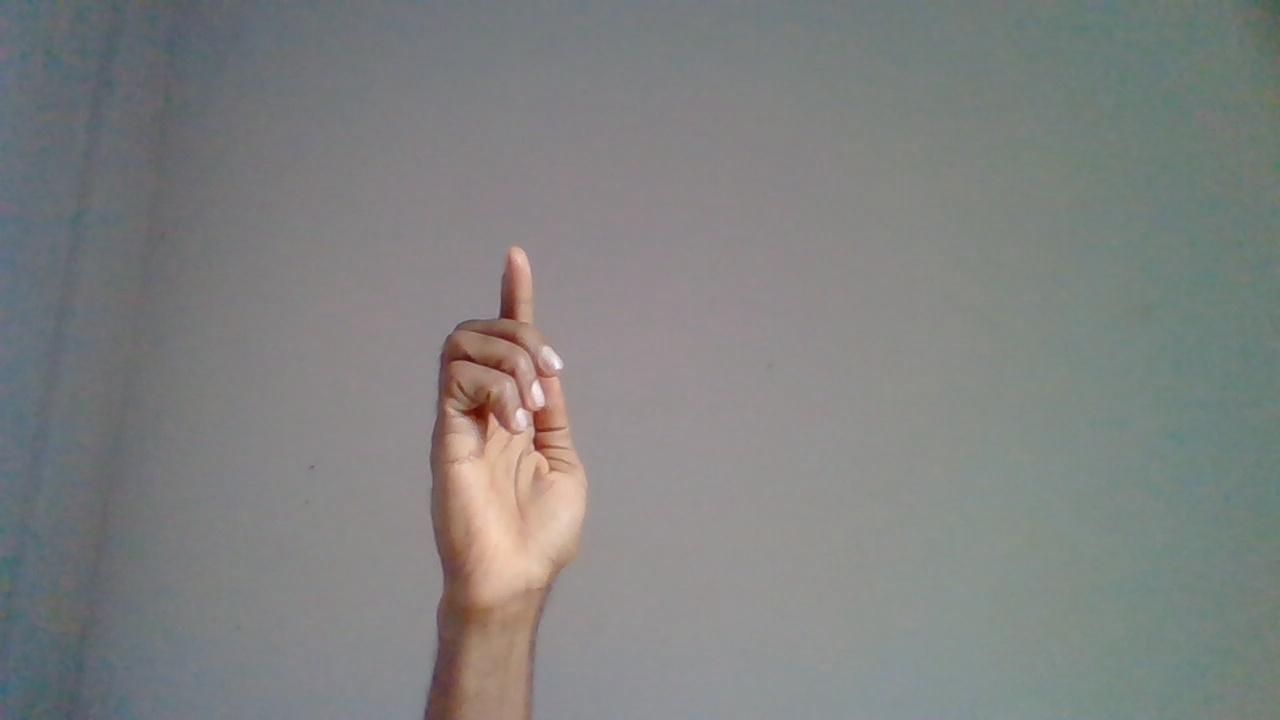qe: (423, 242, 595, 656)
